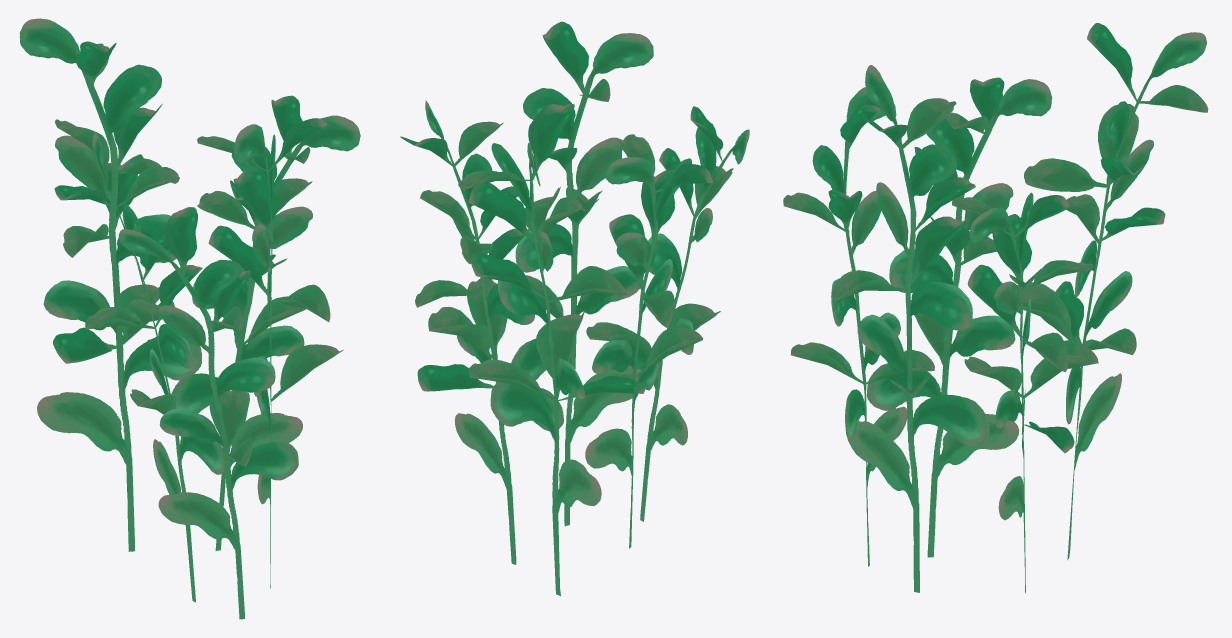
File: MEADOW_SM_Plant_02_03.gltf
The picture shows the model from 3 angles, left to right: view 1: azimuth 30°, elevation 25°; view 2: azimuth 150°, elevation 25°; view 3: azimuth 270°, elevation 25°; orthographic projection. The views are drawn at different scales.
Parts seen in each view (by area): view 1: SM_Plant_02_03_LOD0; view 2: SM_Plant_02_03_LOD0; view 3: SM_Plant_02_03_LOD0.
Boxes of the visible parts, bbox=[...] form: SM_Plant_02_03_LOD0: bbox=[19, 18, 360, 619]; SM_Plant_02_03_LOD0: bbox=[400, 21, 749, 596]; SM_Plant_02_03_LOD0: bbox=[783, 23, 1208, 593].
Size of the model in its own units: 0.5149 by 0.8436 by 0.6317.
Materials: 1 (1 with a texture image).
